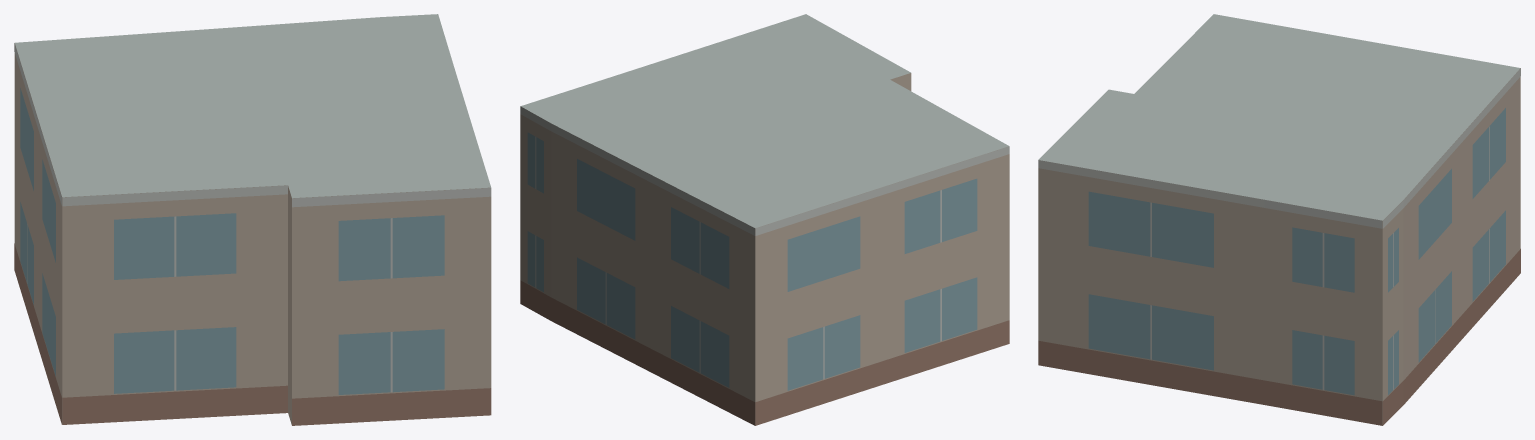
Rendered from survey-upis-33016867.glb.
3 views of the same model, side by side, from view 1: azimuth 30°, elevation 25°; view 2: azimuth 150°, elevation 25°; view 3: azimuth 270°, elevation 25° (orthographic). The views are drawn at different scales.
Visible parts, largest first — view 1: survey-upis-33016867.tmp; view 2: survey-upis-33016867.tmp; view 3: survey-upis-33016867.tmp.
Boxes of the visible parts, x1,y1,x2,y2 form: survey-upis-33016867.tmp: (14, 14, 491, 425); survey-upis-33016867.tmp: (520, 14, 1009, 425); survey-upis-33016867.tmp: (1038, 14, 1520, 425).
Bounding box in the file's own units: 13.18 × 6.1 × 13.01.
